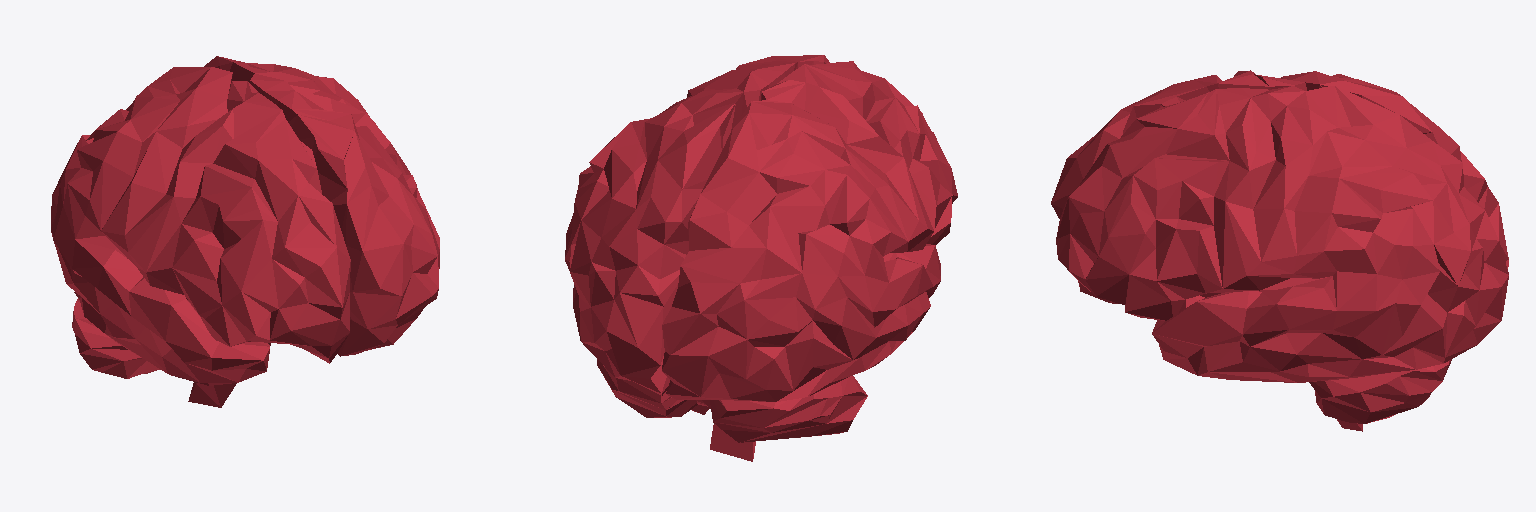
The model's file is brain.obj.
3 renders of one model, left to right at view 1: azimuth 30°, elevation 25°; view 2: azimuth 150°, elevation 25°; view 3: azimuth 270°, elevation 25°, orthographic.
Parts seen in each view (by area): view 1: Brain_Part_05; view 2: Brain_Part_05; view 3: Brain_Part_05.
Part boxes in pixels (x1,y1,x2,y2): Brain_Part_05: (51,56,439,407); Brain_Part_05: (565,55,957,461); Brain_Part_05: (1051,70,1508,431).
Size of the model in its own units: 3.76 by 4 by 4.78.